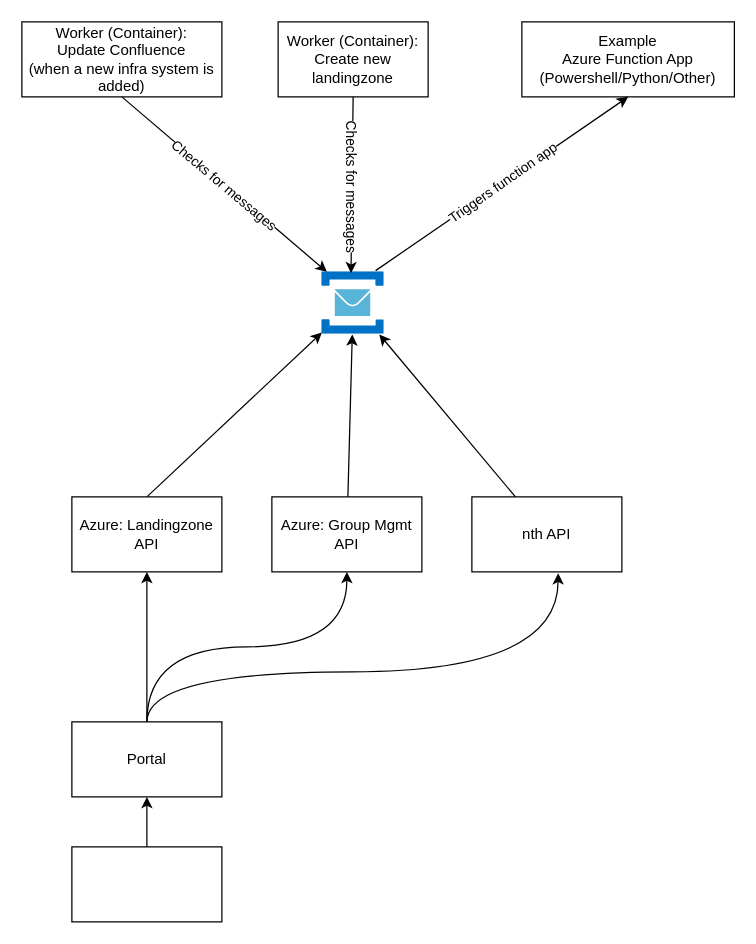
Image size: 756x944. Some labels were removed from this diagram. Each missing label, with the box of its shape:
End users: (71, 846, 222, 922)
Service Bus Topics (nTh Subscribers): (321, 271, 384, 334)
